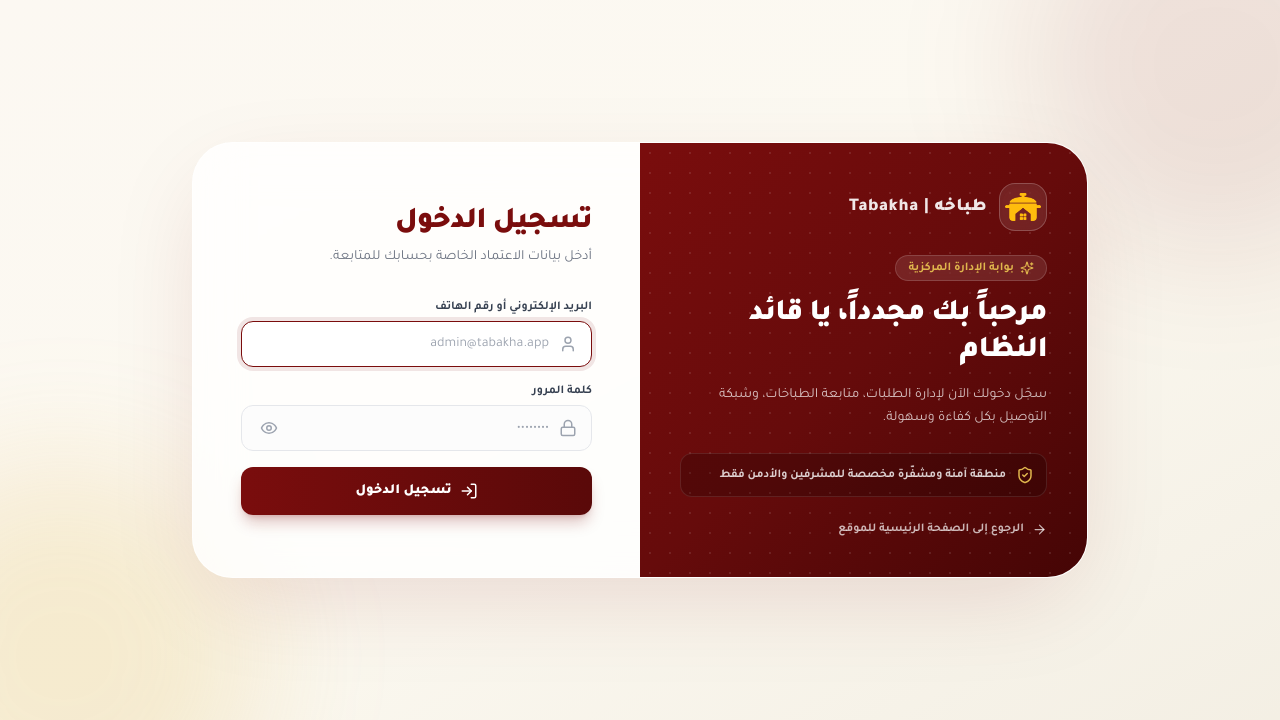
Test case: US1 — sign-in screen accessibility (WCAG 2.1 AA, SC-009) › validation-error state has no axe violations
The image size is (1280, 720).
Click the button "تسجيل الدخول". click: (416, 491)
box: top-left (241, 467), bottom-right (592, 515)
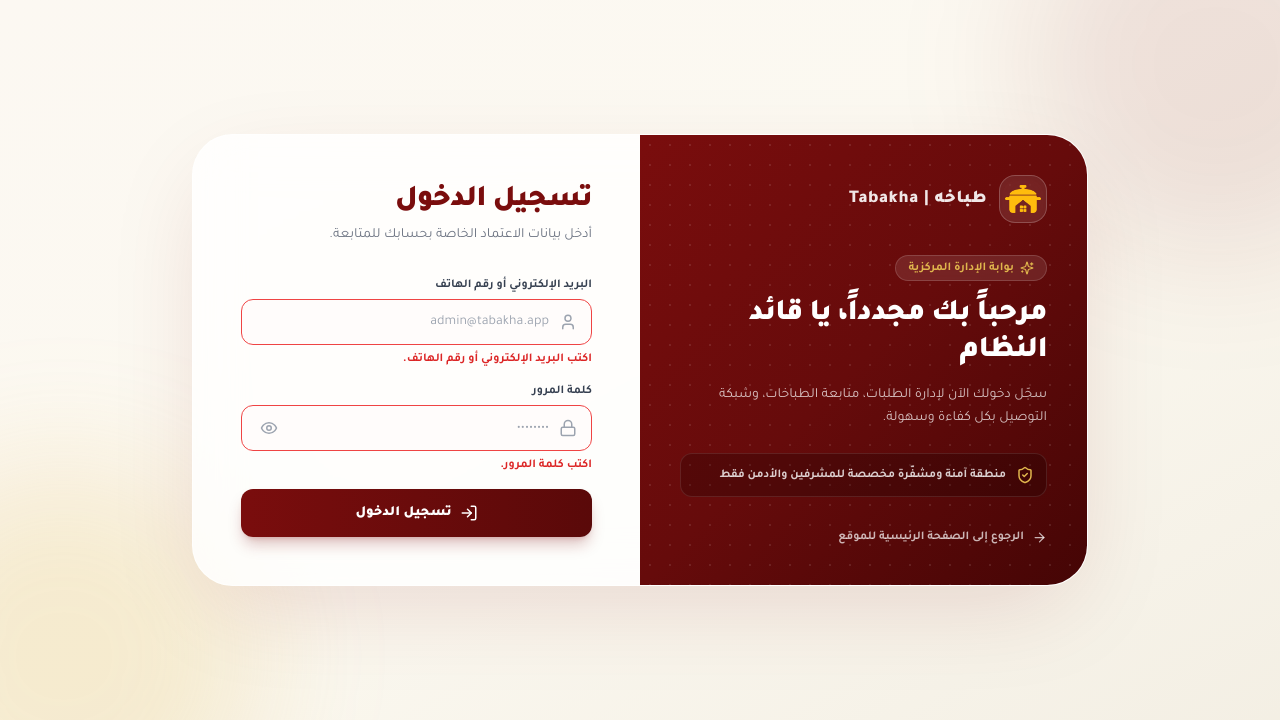
Check: the text "اكتب البريد الإلكتروني أو رقم الهاتف." is shown, box top-left (403, 353), bottom-right (592, 365)
